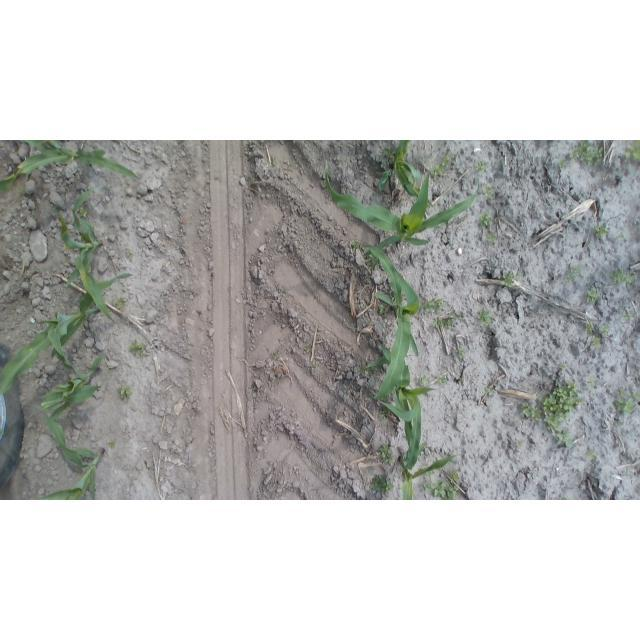Maize: (0, 267, 138, 398), (320, 161, 484, 256), (356, 239, 424, 404), (366, 334, 439, 479), (55, 191, 116, 322), (30, 411, 107, 500), (0, 140, 140, 188), (38, 354, 107, 422), (391, 444, 464, 501), (375, 140, 424, 200)
Weeds: (540, 377, 585, 435), (571, 141, 606, 167), (423, 480, 460, 499), (370, 474, 395, 495), (431, 154, 453, 176), (615, 393, 636, 415), (421, 297, 445, 314), (611, 269, 634, 286), (520, 402, 540, 421), (378, 443, 395, 465), (555, 431, 575, 449), (128, 339, 148, 357), (501, 270, 520, 288), (365, 250, 380, 271), (624, 143, 639, 163), (566, 265, 581, 284), (433, 317, 454, 330), (585, 288, 601, 305), (592, 223, 608, 240), (478, 309, 493, 326), (478, 211, 493, 227), (118, 385, 133, 401), (480, 183, 494, 200), (382, 145, 396, 161), (474, 159, 488, 173), (588, 335, 602, 349), (446, 471, 460, 485), (358, 364, 375, 375), (76, 206, 90, 218), (114, 298, 126, 310), (350, 240, 362, 251), (438, 373, 449, 385), (486, 233, 497, 244), (557, 159, 568, 170), (419, 374, 430, 385), (587, 450, 598, 461), (377, 303, 387, 315), (600, 324, 610, 336), (624, 310, 634, 322), (589, 375, 597, 389), (379, 409, 388, 421), (106, 440, 118, 449), (303, 345, 313, 355), (614, 234, 625, 243), (484, 386, 495, 395), (458, 348, 467, 359), (585, 323, 594, 334), (617, 386, 628, 395), (126, 247, 134, 259), (426, 469, 437, 477), (278, 287, 286, 298), (517, 440, 526, 449), (558, 363, 568, 371), (274, 351, 282, 361), (311, 362, 318, 371), (448, 312, 457, 319), (271, 156, 277, 166), (459, 376, 466, 384), (616, 421, 623, 428)
